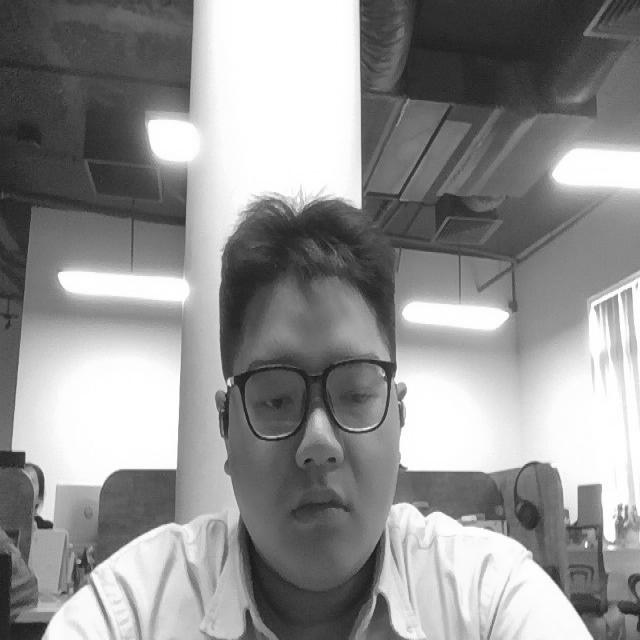real: (207, 192, 414, 599), (239, 374, 401, 425)
